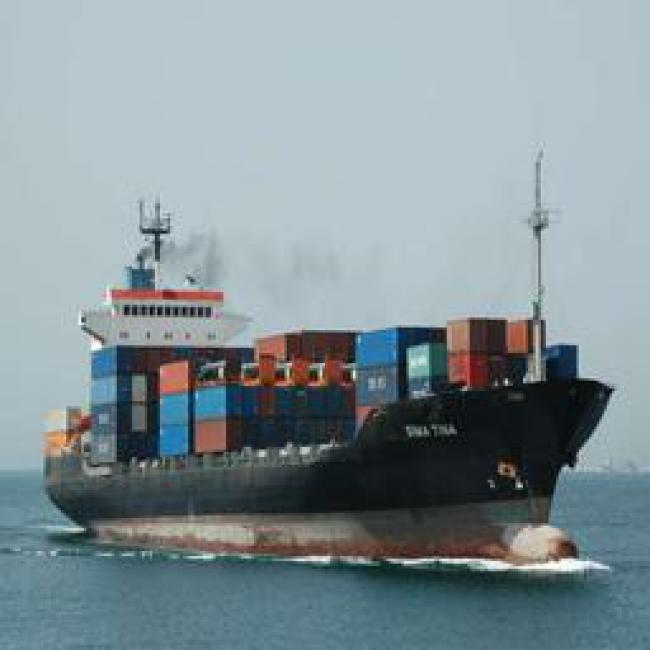Ship: (30, 241, 596, 568)
